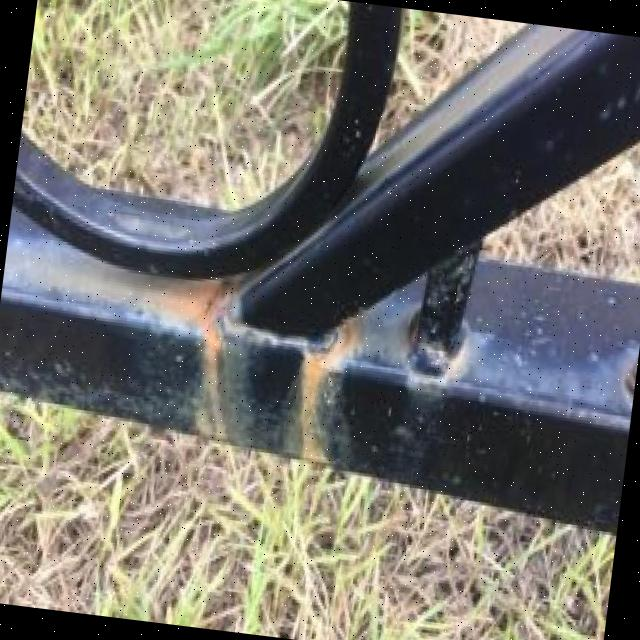Corrosion: (0, 0, 640, 529), (0, 383, 623, 640)
